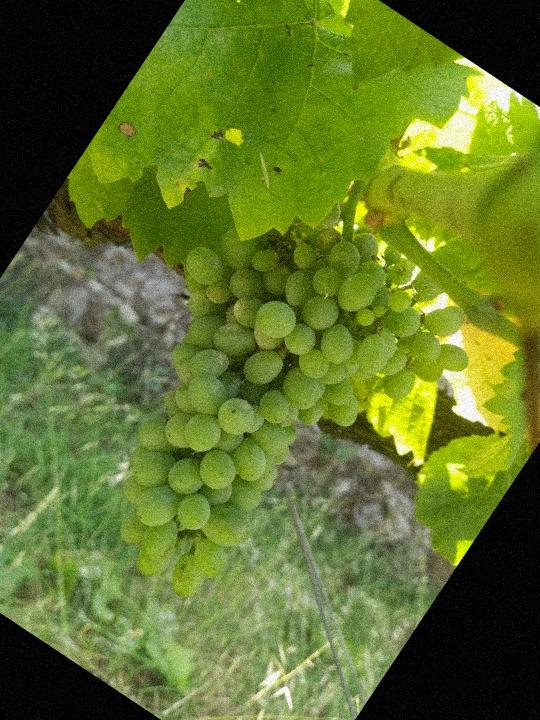grape: (21, 148, 508, 667)
